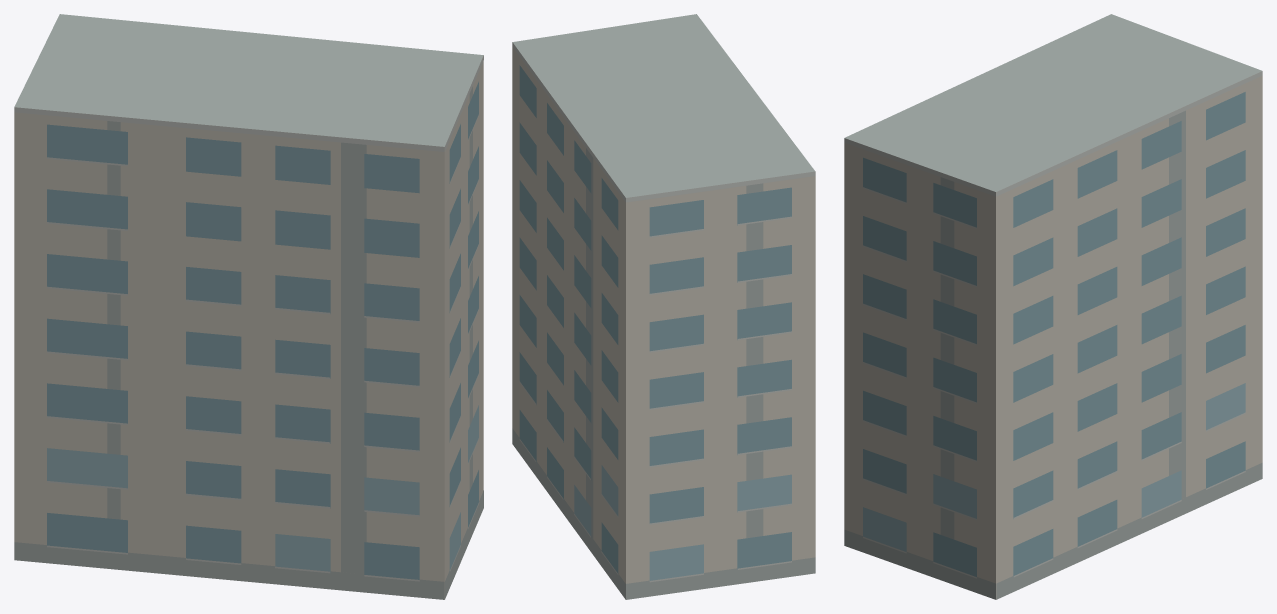
File: survey-upis-32489523.glb
The picture shows the model from 3 angles, left to right: view 1: azimuth 30°, elevation 25°; view 2: azimuth 150°, elevation 25°; view 3: azimuth 270°, elevation 25°; orthographic projection. The views are drawn at different scales.
Visible parts, largest first — view 1: survey-upis-32489523.tmp; view 2: survey-upis-32489523.tmp; view 3: survey-upis-32489523.tmp.
Part boxes in pixels (left/top/right/bottom): survey-upis-32489523.tmp: left=14, top=14, right=483, bottom=599; survey-upis-32489523.tmp: left=512, top=14, right=815, bottom=599; survey-upis-32489523.tmp: left=844, top=14, right=1262, bottom=599.
Bounding box in the file's own units: 20.1 × 21.44 × 19.95.
